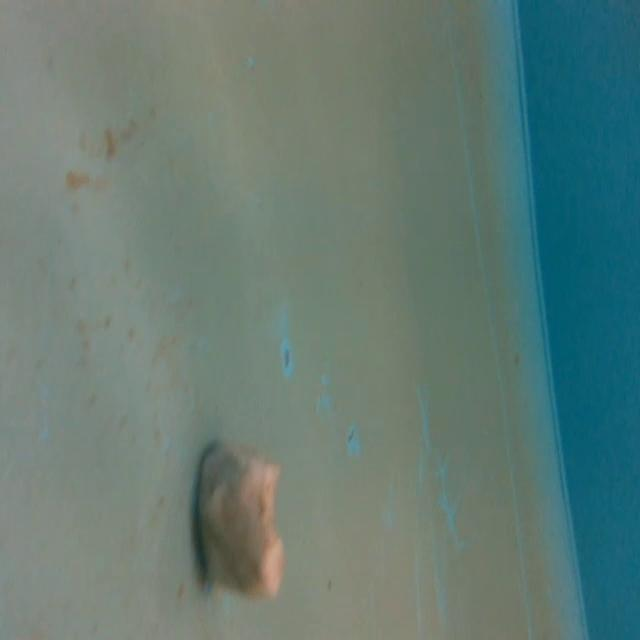rock: (194, 435, 291, 606)
